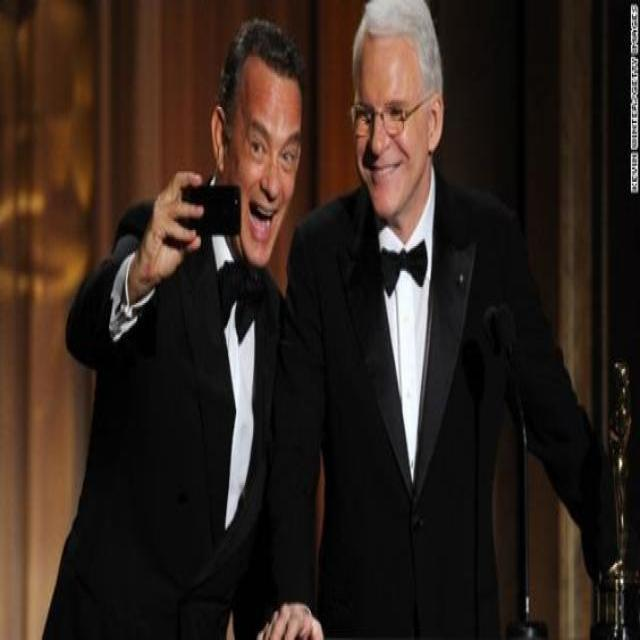glasses: (349, 94, 436, 138)
